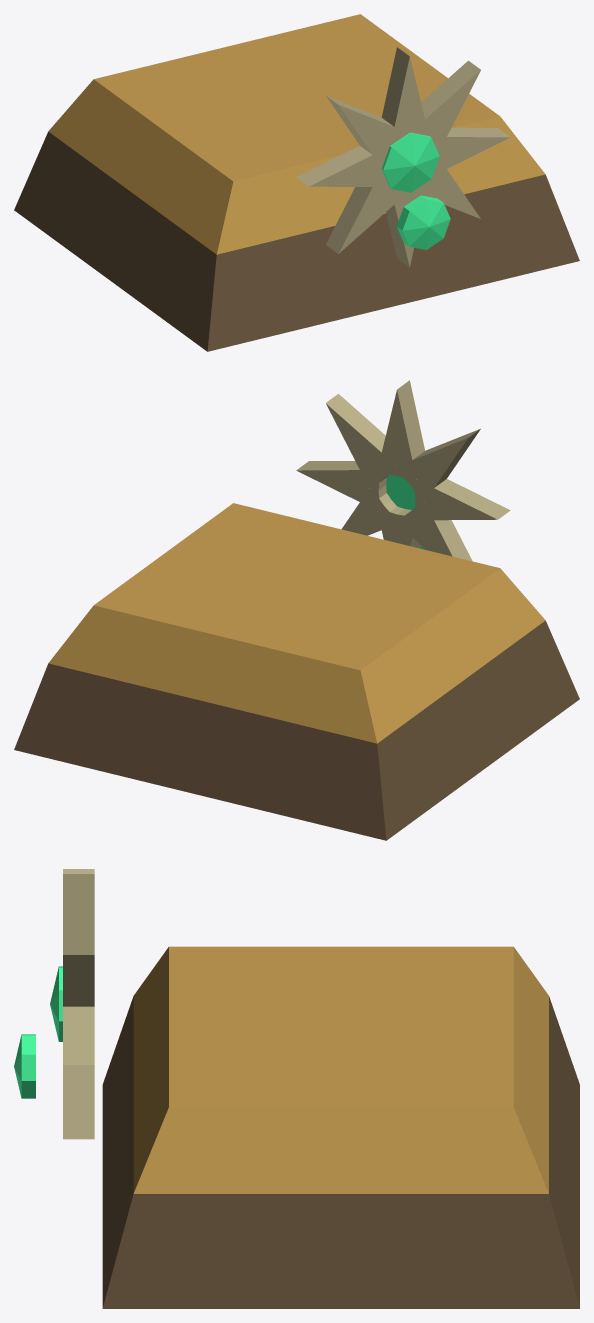
File: lotus_square_base.obj
3 renders of one model, top to bottom at view 1: azimuth 30°, elevation 25°; view 2: azimuth 150°, elevation 25°; view 3: azimuth 270°, elevation 25°, orthographic. The views are drawn at different scales.
Visible parts, largest first — view 1: lotus_square_upper, lotus_square_lower, tower_lotus_core, lotus_base_core, tower_lotus_00_petal, tower_lotus_03_petal, tower_lotus_01_petal, tower_lotus_02_petal, tower_lotus_06_petal, tower_lotus_07_petal, tower_lotus_05_petal, tower_lotus_03_petal_edge (+7 smaller); view 2: lotus_square_upper, lotus_square_lower, tower_lotus_00_petal, tower_lotus_01_petal, tower_lotus_07_petal, tower_lotus_06_petal, tower_lotus_03_petal, tower_lotus_02_petal, tower_lotus_05_petal, tower_lotus_07_petal_edge, tower_lotus_00_petal_edge, tower_lotus_02_petal_edge (+5 smaller); view 3: lotus_square_upper, lotus_square_lower, tower_lotus_00_petal_edge, tower_lotus_05_petal_edge, tower_lotus_06_petal_edge, tower_lotus_07_petal_edge, lotus_base_core, tower_lotus_core.
Boxes of the visible parts, <box> form: lotus_square_upper: <box>48,14,545,254</box>; lotus_square_lower: <box>14,131,579,351</box>; tower_lotus_core: <box>381,132,439,192</box>; lotus_base_core: <box>396,195,450,249</box>; tower_lotus_00_petal: <box>391,56,428,144</box>; tower_lotus_03_petal: <box>338,172,407,253</box>; tower_lotus_01_petal: <box>339,105,407,167</box>; tower_lotus_02_petal: <box>309,149,388,187</box>; tower_lotus_06_petal: <box>432,137,510,169</box>; tower_lotus_07_petal: <box>412,70,480,151</box>; tower_lotus_05_petal: <box>416,158,480,218</box>; tower_lotus_03_petal_edge: <box>325,187,372,253</box>; lotus_square_upper: <box>48,503,545,743</box>; lotus_square_lower: <box>14,620,579,840</box>; tower_lotus_00_petal: <box>373,390,420,499</box>; tower_lotus_01_petal: <box>383,438,467,515</box>; tower_lotus_07_petal: <box>326,403,411,497</box>; tower_lotus_06_petal: <box>297,469,396,512</box>; tower_lotus_03_petal: <box>380,487,452,556</box>; tower_lotus_02_petal: <box>400,472,496,520</box>; tower_lotus_05_petal: <box>341,481,408,535</box>; tower_lotus_07_petal_edge: <box>326,394,386,498</box>; tower_lotus_00_petal_edge: <box>380,380,424,481</box>; tower_lotus_02_petal_edge: <box>407,479,510,519</box>; lotus_square_upper: <box>133,946,548,1193</box>; lotus_square_lower: <box>102,996,579,1308</box>; tower_lotus_00_petal_edge: <box>63,874,94,954</box>; tower_lotus_05_petal_edge: <box>63,1065,94,1139</box>; tower_lotus_06_petal_edge: <box>63,1006,94,1064</box>; tower_lotus_07_petal_edge: <box>63,955,94,1006</box>; lotus_base_core: <box>14,1034,35,1098</box>; tower_lotus_core: <box>50,966,62,1041</box>.
Bounding box in the file's own units: 0.8485 × 0.57 × 0.9055.
